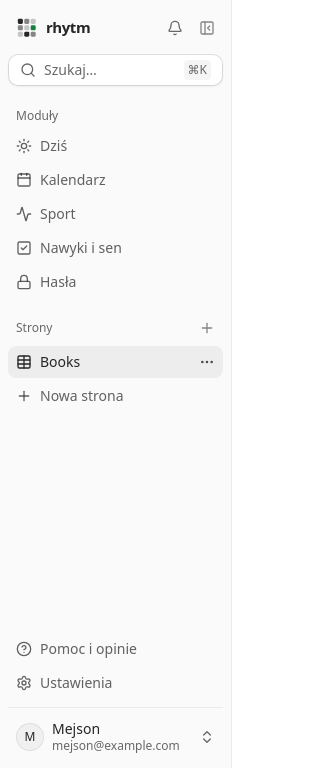
Test: AppSidebar › F2 na aktywnej stronie włącza edycję nazwy: Enter zapisuje, Esc anuluje
The width and height of the screenshot is (320, 768).
Press F2
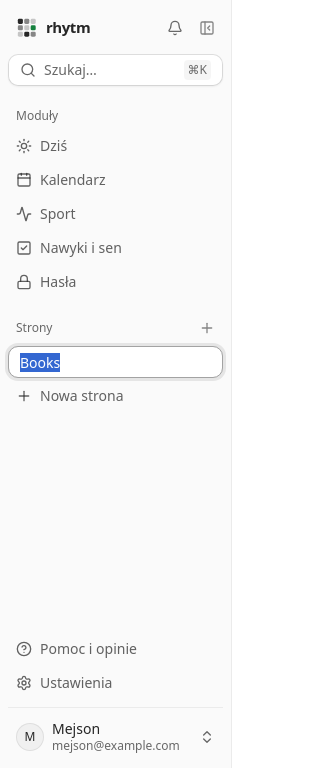
Expected: the field named "Nazwa strony" holds "Books"
Replace the text in the field named "Nazwa strony" with "Lektury" at (116, 362), box [8,346,223,378]
Then press Enter
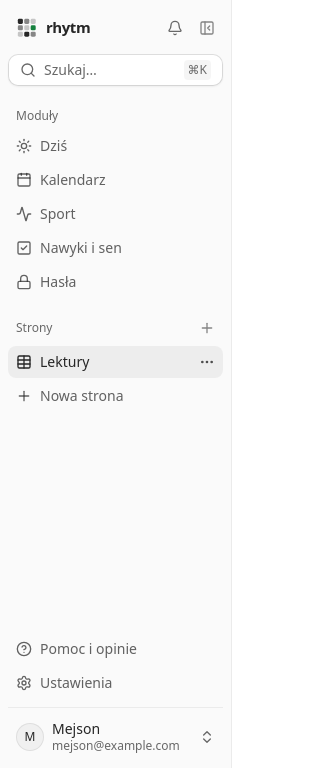
Expected: the link "Lektury" is shown, [8,346,223,378]
Press F2
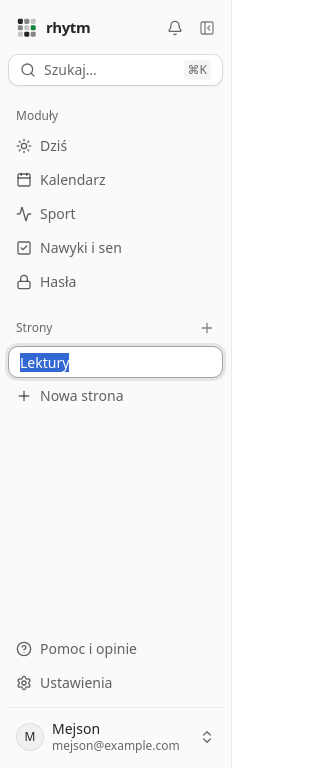
Type "xyz" into the field named "Nazwa strony".
click(116, 362); type("xyz")  # box [8,346,223,378]
Then press Escape
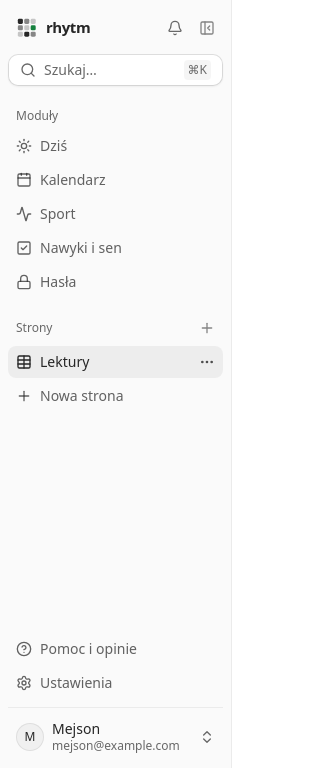
Expected: the link "Lektury" is shown, [8,346,223,378]
